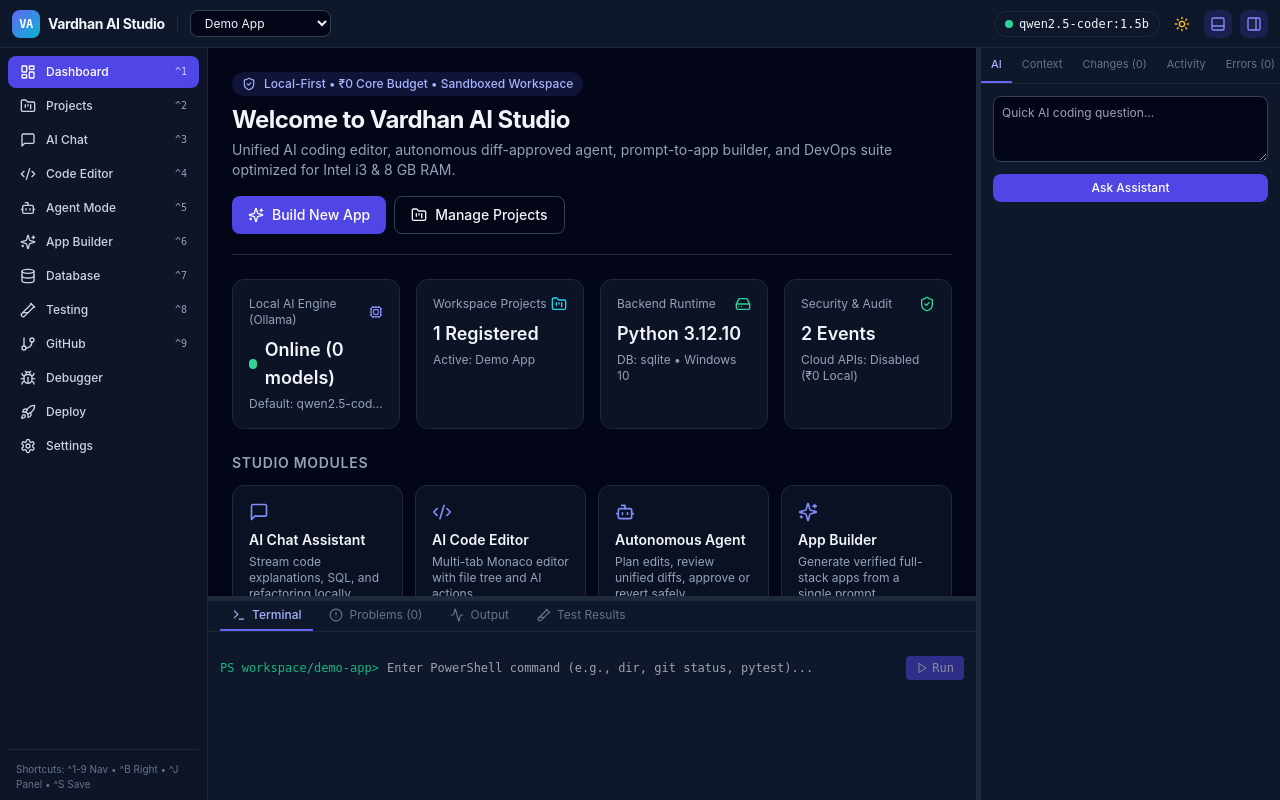
Test: Vardhan AI Studio Frontend › opens Tailwind in-app Confirm Modal when unregistering a project and displays toast
This screenshot has width=1280, height=800.
Expected: the text "Python 3.12.10" is shown, left=617, top=320, right=751, bottom=348
What coordinates should you click on to do the following:
click the button "Projects ^2"
I would click on:
 (104, 106)
Its box is left=8, top=90, right=199, bottom=122.
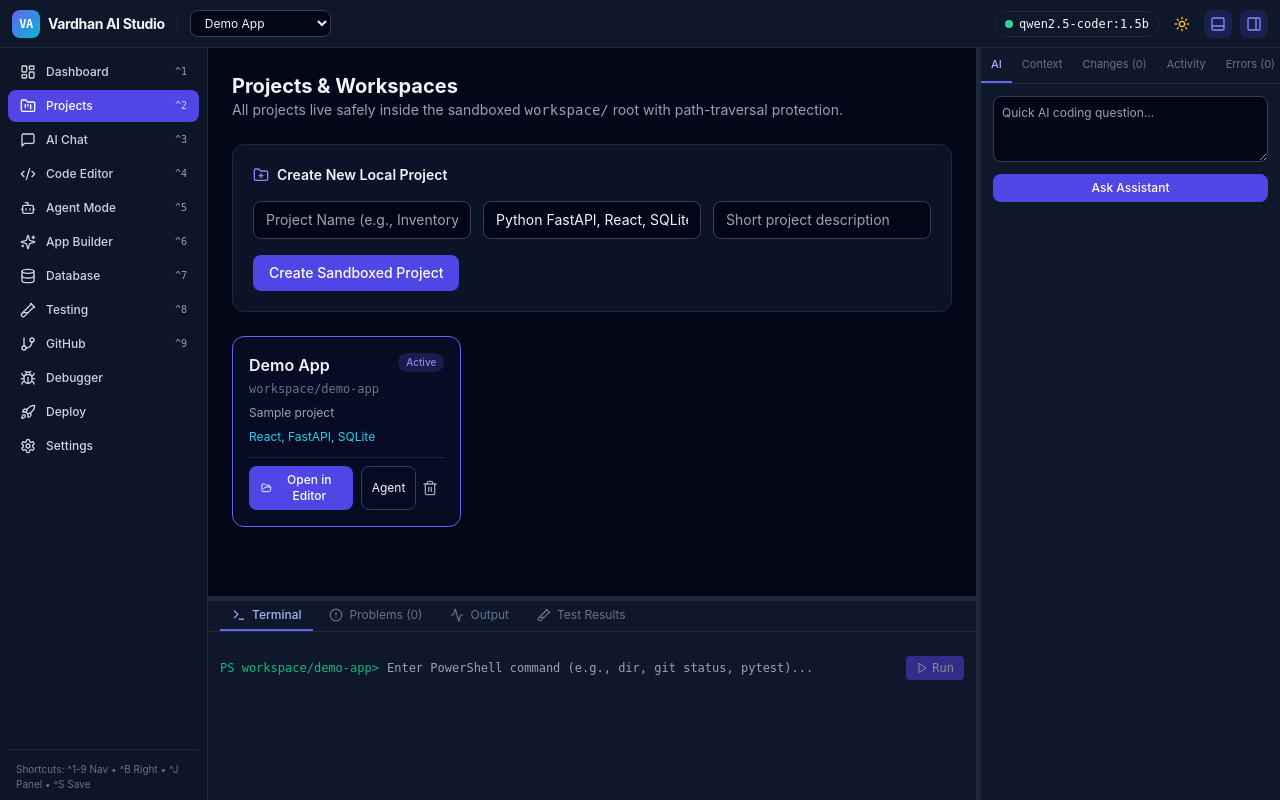
Expected: the heading "Demo App" is shown, left=249, top=353, right=330, bottom=377
Now the heading "Projects & Workspaces" is shown, box left=232, top=74, right=458, bottom=98
What coordinates should you click on to do the following:
click the button titled "Unregister project"
I would click on:
 (430, 488)
Its box is left=416, top=474, right=444, bottom=502.
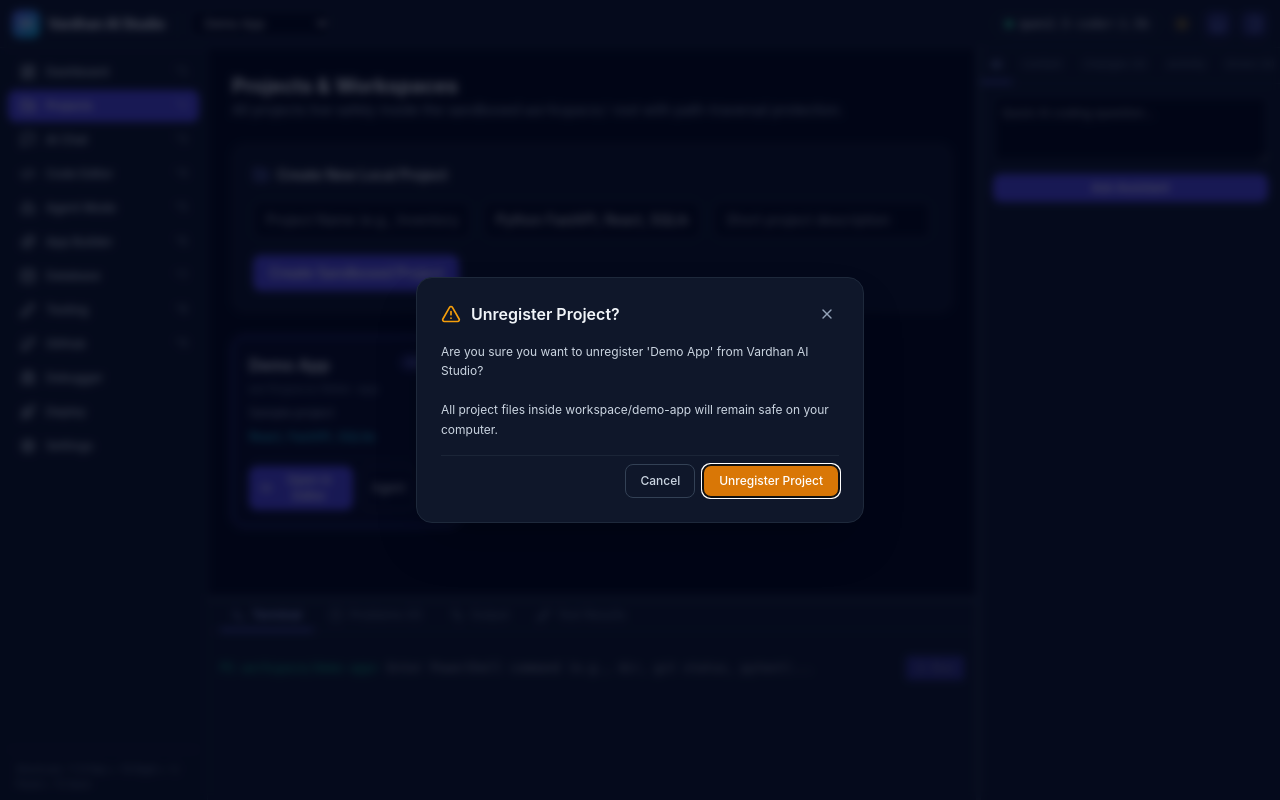
Now the dialog is shown
Now the heading "Unregister Project?" is shown, box left=471, top=302, right=620, bottom=326
// Confirm button in the modal
What coordinates should you click on to do the following:
click the button "Unregister Project"
I would click on:
 (771, 481)
Its box is left=703, top=465, right=839, bottom=497.
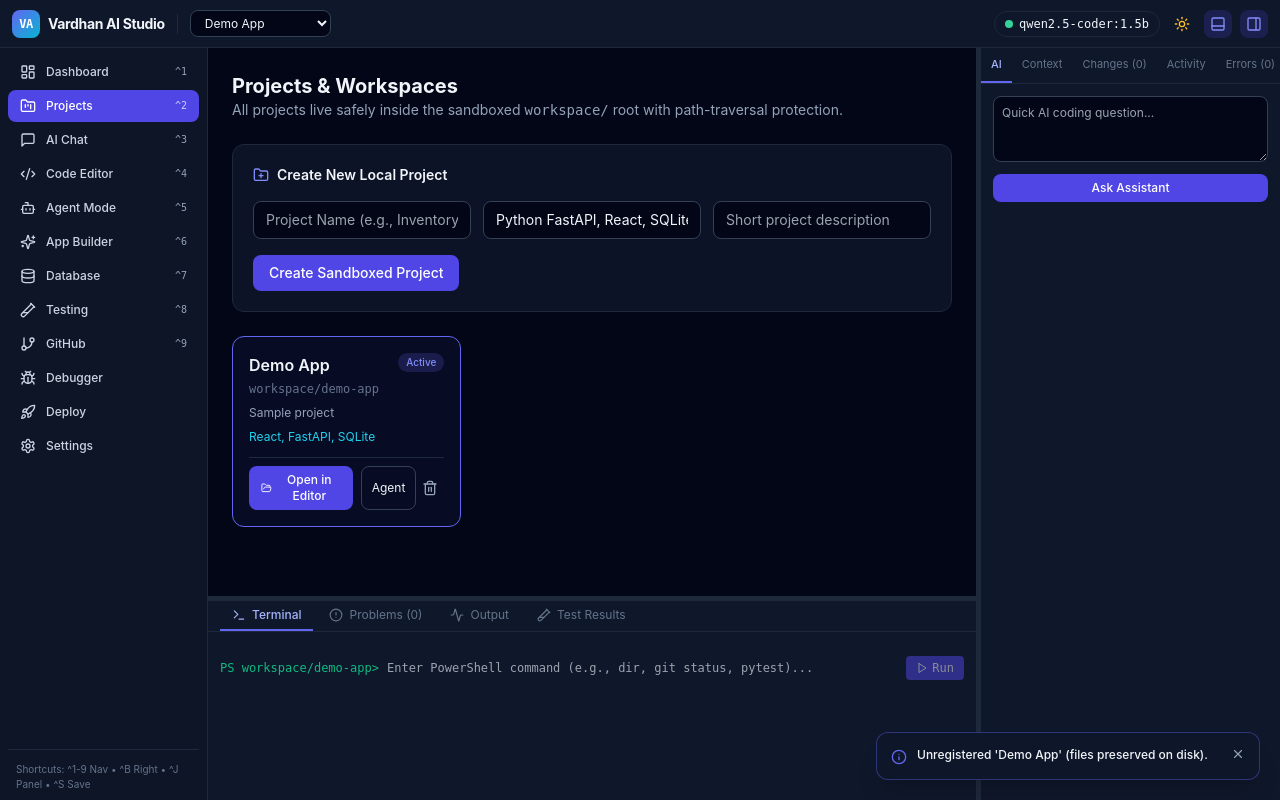
Now the text "Unregistered 'Demo App' (files preserved on disk)." is shown, box left=917, top=747, right=1208, bottom=764
